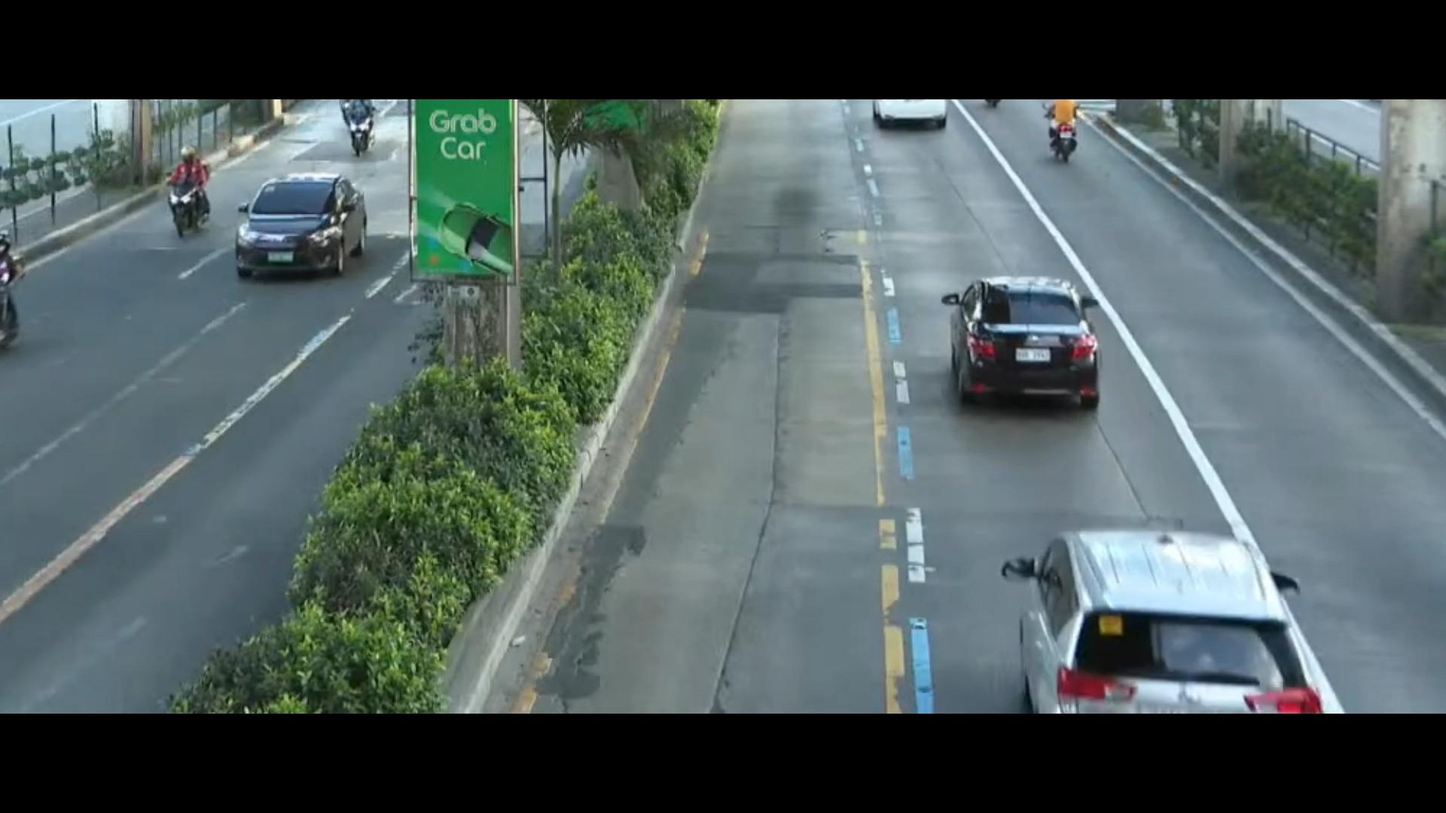Motorcycle: (159, 149, 224, 241), (1033, 96, 1096, 170), (334, 100, 388, 161)
SUV: (1010, 503, 1337, 709)
Sedan: (938, 245, 1126, 426), (215, 162, 381, 295)
